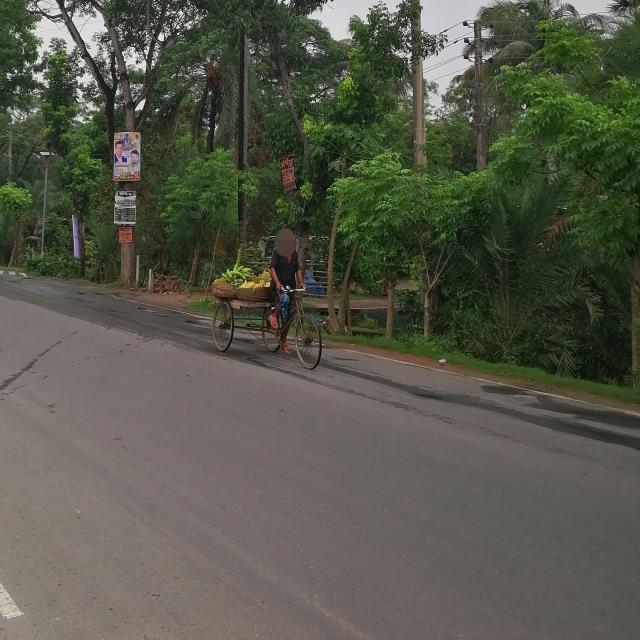Van: (209, 277, 329, 374)
